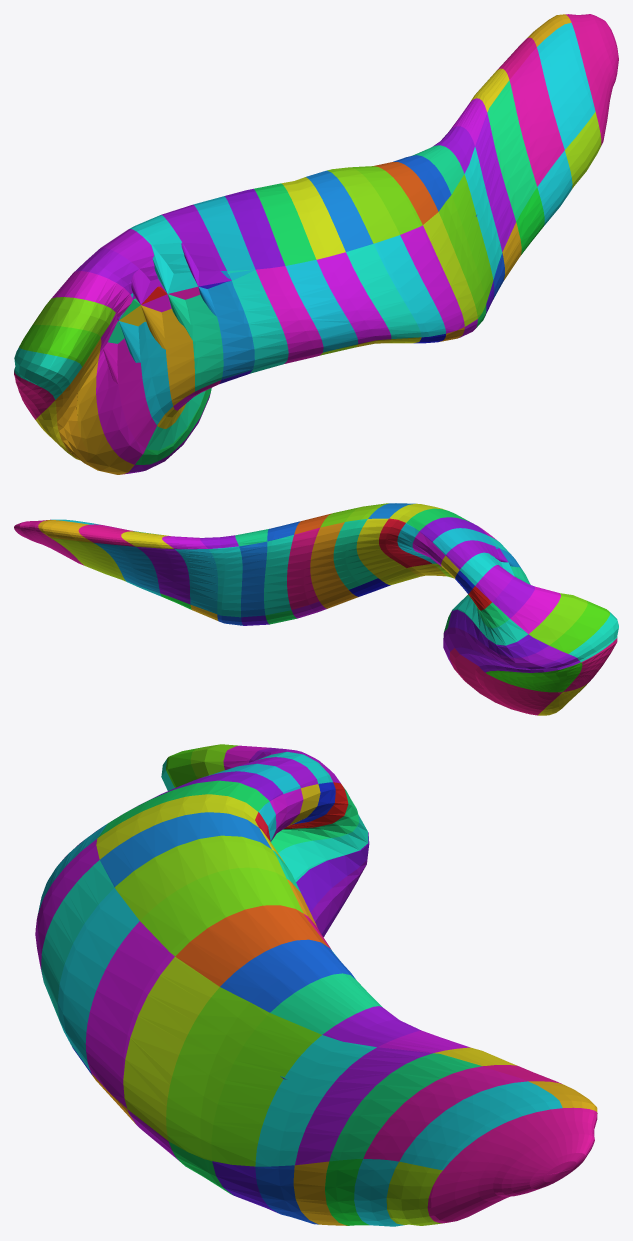
The model's file is pancreas-female-vu.glb.
The picture shows the model from 3 angles, top to bottom: view 1: azimuth 30°, elevation 25°; view 2: azimuth 150°, elevation 25°; view 3: azimuth 270°, elevation 25°; orthographic projection. The views are drawn at different scales.
Visible parts, largest first — view 1: 24A, 23A, 22A, world, 12A, 11A, 13A, 9A, 10A, 14A, 15A, 8A (+43 smaller); view 2: 17C, 16C, 18C, 21C, 20C, 19C, 15C, 22C, 1D, 23C, 1C, 14C (+41 smaller); view 3: world, 18A, 17A, 19A, 16A, 16B, 20A, 15B, 24A, 15A, 17B, 18B (+32 smaller).
Part boxes in pixels (bbox=[...]): 24A: bbox=[537, 23, 595, 149]; 23A: bbox=[509, 47, 564, 186]; 22A: bbox=[487, 80, 537, 221]; world: bbox=[565, 14, 618, 145]; 12A: bbox=[285, 260, 358, 352]; 11A: bbox=[256, 266, 323, 360]; 13A: bbox=[316, 252, 391, 344]; 9A: bbox=[198, 271, 254, 379]; 10A: bbox=[227, 269, 288, 369]; 14A: bbox=[346, 244, 421, 338]; 15A: bbox=[374, 235, 445, 337]; 8A: bbox=[167, 294, 223, 391]; 17C: bbox=[287, 527, 319, 609]; 16C: bbox=[310, 522, 348, 600]; 18C: bbox=[264, 535, 293, 615]; 21C: bbox=[175, 549, 217, 613]; 20C: bbox=[208, 546, 242, 617]; 19C: bbox=[239, 541, 267, 617]; 15C: bbox=[333, 519, 377, 589]; 22C: bbox=[136, 547, 190, 604]; 1D: bbox=[481, 672, 562, 715]; 23C: bbox=[94, 542, 159, 592]; 1C: bbox=[485, 662, 582, 692]; 14C: bbox=[356, 518, 406, 577]; world: bbox=[427, 1107, 597, 1223]; 18A: bbox=[166, 987, 269, 1160]; 17A: bbox=[123, 956, 219, 1140]; 19A: bbox=[211, 1013, 321, 1166]; 16A: bbox=[85, 921, 174, 1108]; 16B: bbox=[140, 867, 303, 956]; 20A: bbox=[255, 1035, 376, 1166]; 15B: bbox=[114, 835, 286, 920]; 24A: bbox=[399, 1081, 562, 1170]; 15A: bbox=[57, 888, 139, 1071]; 17B: bbox=[175, 905, 328, 986]; 18B: bbox=[220, 939, 355, 1012].
Size of the model in its own units: 0.1702 by 0.0561 by 0.0817.
